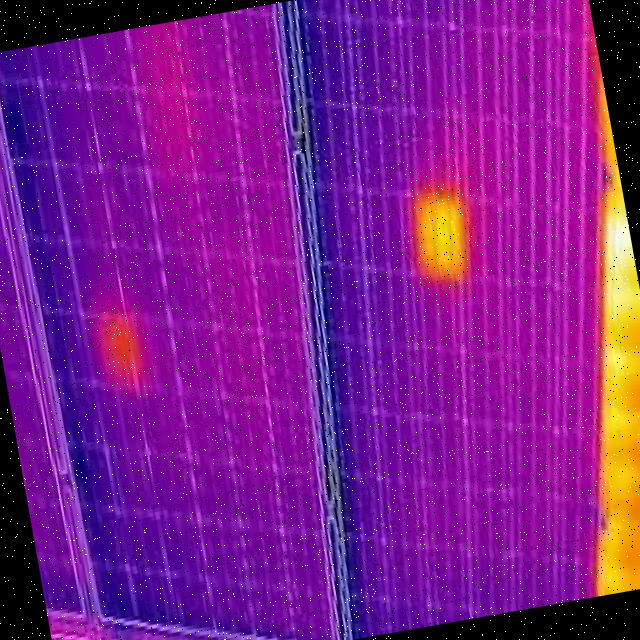Hotspot: (401, 175, 479, 298), (82, 296, 166, 409)
